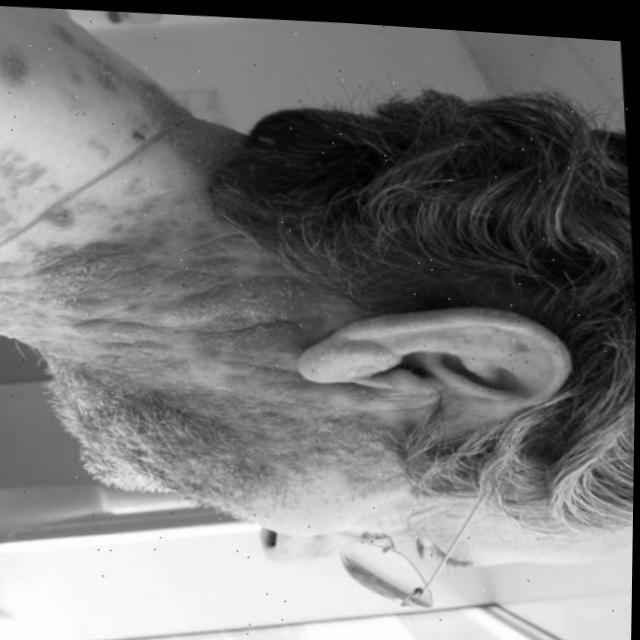Shingles: (0, 138, 413, 511), (0, 16, 162, 116)
